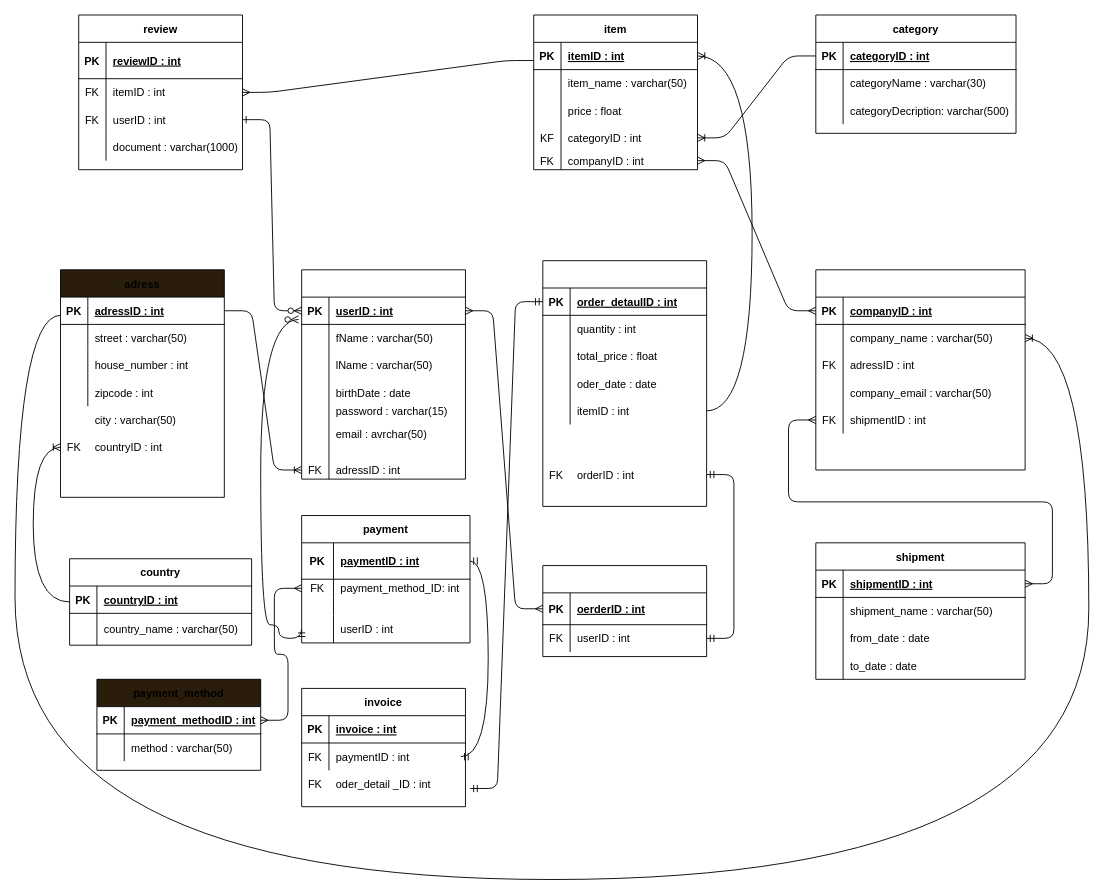
Image size: 1104x895. Some labels were removed from this diagram. Here are the shapes that lost their labels. From the top down, the box of each, then its label:
(301, 269, 465, 479): useraccount
(542, 260, 707, 506): order_detail
(815, 269, 1025, 470): companies
(542, 565, 707, 657): order
